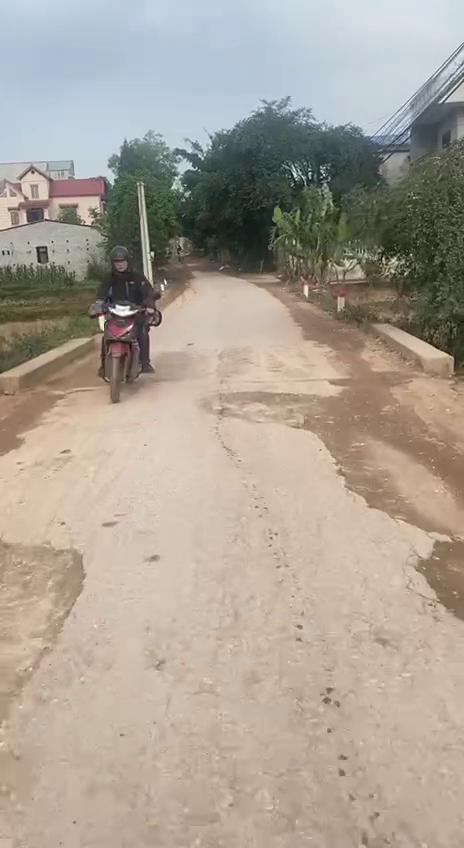pothole: (0, 528, 92, 700), (203, 376, 336, 434)
